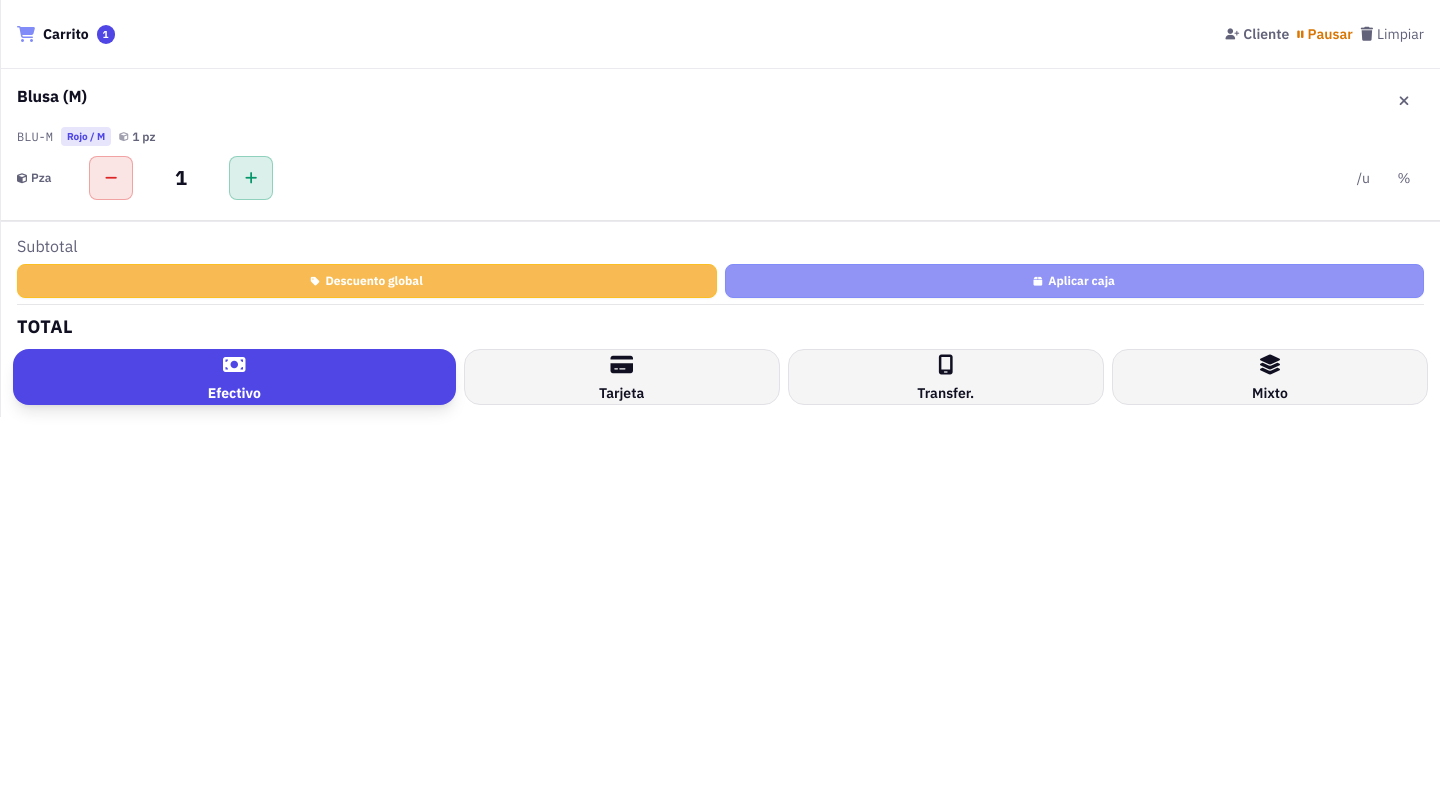
Test case: ficha desde el carrito (SP1-c, I2 de la revisión final) › abre en la talla de la línea, antes y después de cargar el producto completo
Click the button titled "Ver detalles" at {"x": 52, "y": 96}, box 17,85 -> 1376,107
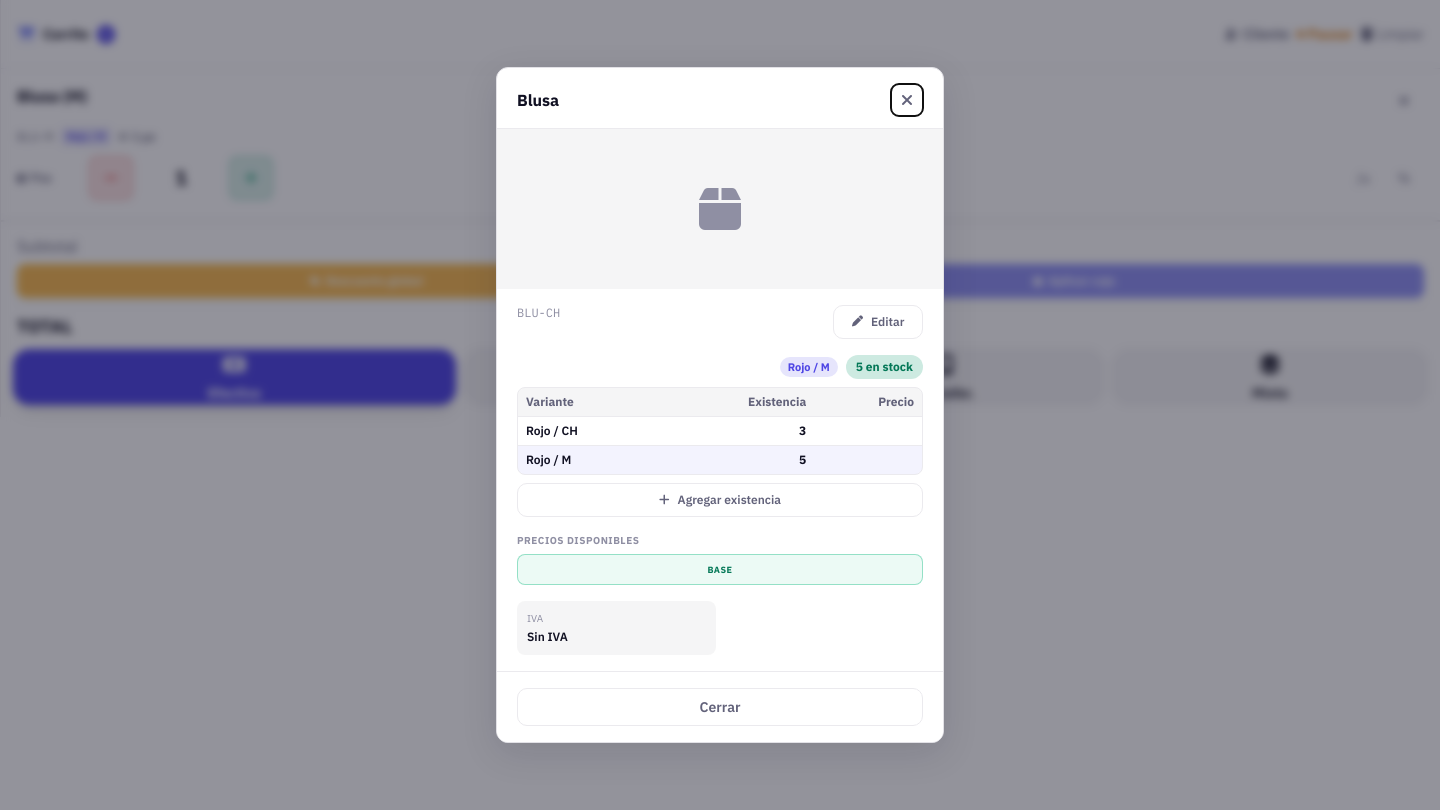
Result: the text "5 en stock" is shown at 846,355 -> 923,379
